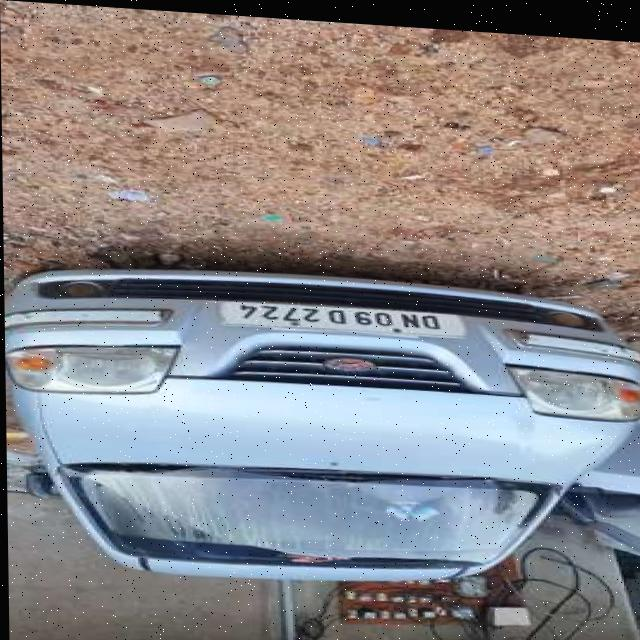plate: (222, 295, 466, 335)
